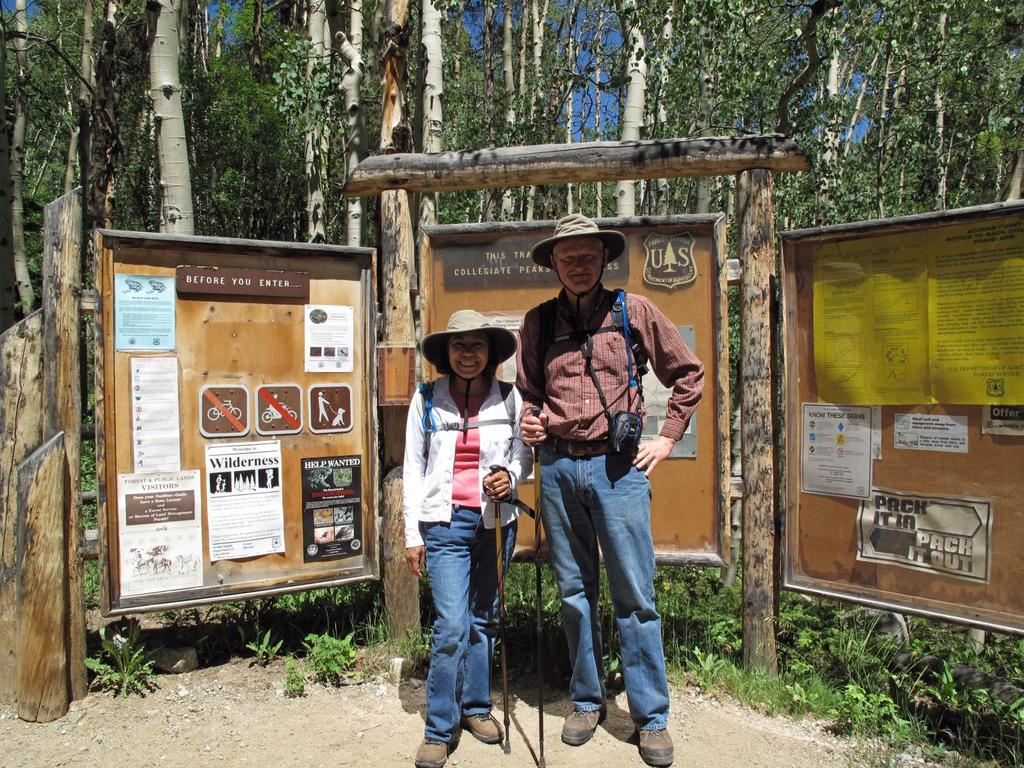Footwear: (627, 720, 677, 766), (563, 701, 610, 749), (412, 729, 455, 767), (463, 709, 501, 750)
